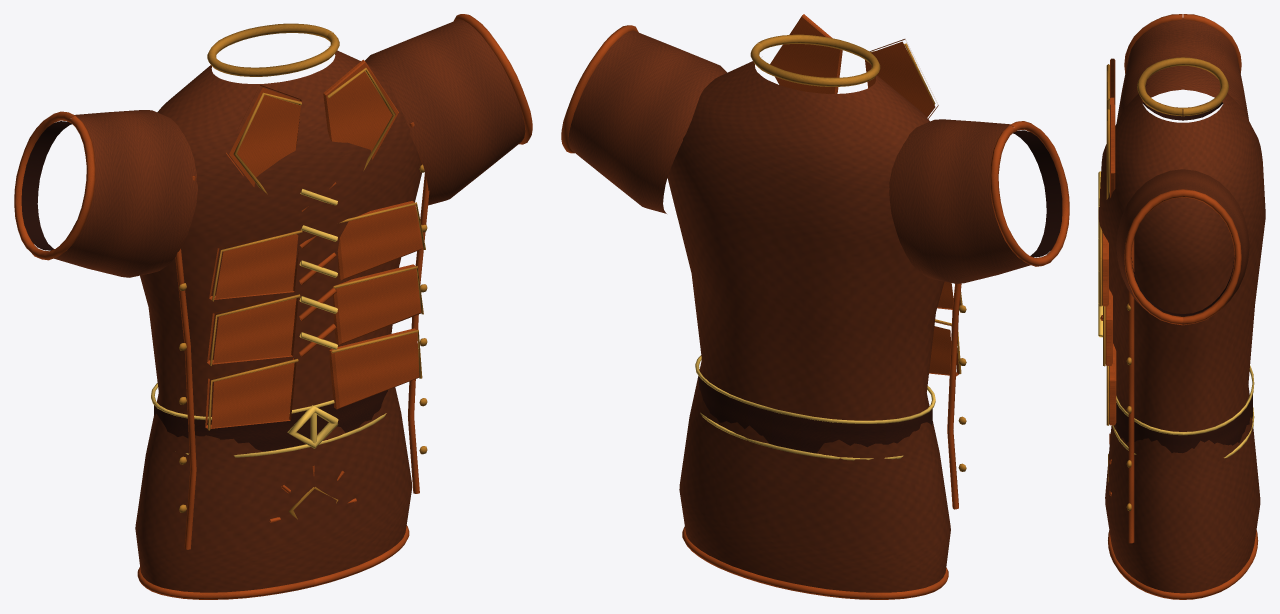
File: spirit_breastplate.glb
The picture shows the model from 3 angles, left to right: view 1: azimuth 30°, elevation 25°; view 2: azimuth 150°, elevation 25°; view 3: azimuth 270°, elevation 25°; orthographic projection. The views are drawn at different scales.
Parts seen in each view (by area): view 1: Fitted brown Spirit leather torso, Hollow stitched sleeve (×2), Segmented embossed Spirit chest plate (×6), Folded V-neck collar (×2), Rolled sleeve cuff edge (×2), Fitted waist belt, Side leather fitted seam (×2), Open neckline rolled seam, Brown rolled breastplate hem, Sleeve dark inner cuff, Square waist buckle rim; view 2: Fitted brown Spirit leather torso, Hollow stitched sleeve (×2), Fitted waist belt, Folded V-neck collar (×2), Rolled sleeve cuff edge (×2), Open neckline rolled seam, Brown rolled breastplate hem, Sleeve dark inner cuff, Waist belt sewn piping (×2), Side leather fitted seam, Segmented embossed Spirit chest plate; view 3: Fitted brown Spirit leather torso, Hollow stitched sleeve (×2), Rolled sleeve cuff edge (×2), Fitted waist belt, Open neckline rolled seam, Side leather fitted seam, Segmented embossed Spirit chest plate (×3), Brown rolled breastplate hem, Waist belt sewn piping (×2), Folded V-neck collar (×2), Sleeve dark inner cuff (×2), Collar stitched edging (+1 smaller).
Boxes of the visible parts, x1,y1,x2,y2 form: Fitted brown Spirit leather torso: (135, 46, 421, 592); Hollow stitched sleeve (×2): (54, 19, 525, 277); Segmented embossed Spirit chest plate (×6): (205, 201, 423, 428); Folded V-neck collar (×2): (226, 59, 398, 186); Rolled sleeve cuff edge (×2): (14, 14, 532, 260); Fitted waist belt: (154, 390, 387, 451); Side leather fitted seam (×2): (175, 122, 429, 549); Open neckline rolled seam: (207, 23, 339, 76); Brown rolled breastplate hem: (137, 525, 409, 599); Sleeve dark inner cuff: (21, 121, 71, 250); Square waist buckle rim: (287, 405, 338, 448); Fitted brown Spirit leather torso: (667, 61, 950, 592); Hollow stitched sleeve (×2): (568, 30, 1030, 283); Fitted waist belt: (698, 376, 932, 453); Folded V-neck collar (×2): (770, 14, 938, 118); Rolled sleeve cuff edge (×2): (561, 25, 1069, 266); Open neckline rolled seam: (750, 34, 880, 86); Brown rolled breastplate hem: (682, 526, 948, 599); Sleeve dark inner cuff: (1013, 130, 1062, 257); Waist belt sewn piping (×2): (695, 355, 935, 460); Side leather fitted seam: (947, 283, 961, 509); Segmented embossed Spirit chest plate: (929, 321, 958, 376); Fitted brown Spirit leather torso: (1098, 84, 1265, 593); Hollow stitched sleeve (×2): (1116, 18, 1249, 322); Rolled sleeve cuff edge (×2): (1124, 14, 1241, 325); Fitted waist belt: (1116, 394, 1252, 453); Open neckline rolled seam: (1137, 57, 1228, 116); Side leather fitted seam: (1128, 239, 1134, 543); Segmented embossed Spirit chest plate (×3): (1102, 232, 1116, 425); Brown rolled breastplate hem: (1108, 530, 1258, 599); Waist belt sewn piping (×2): (1112, 365, 1254, 458); Folded V-neck collar (×2): (1110, 58, 1115, 197); Sleeve dark inner cuff (×2): (1131, 102, 1234, 316); Collar stitched edging: (1106, 109, 1109, 199).
Bounding box in the file's own units: 60.85 × 61.74 × 20.23.
Materials: 6 (6 with a texture image).
